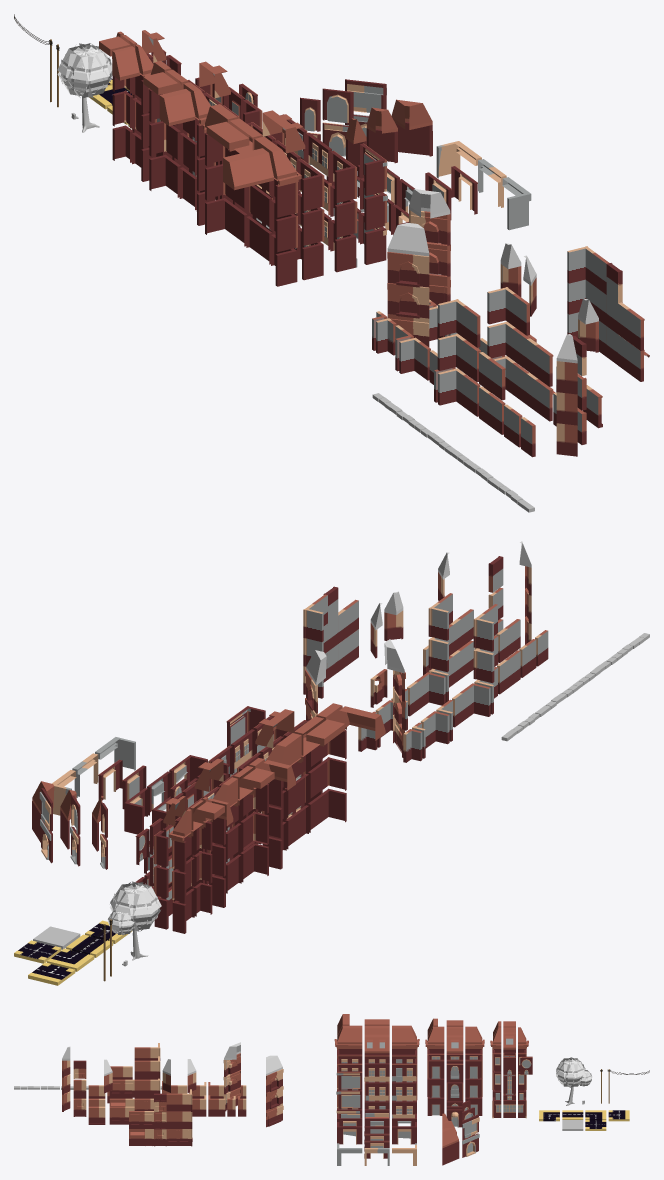
The model's file is trottoirs.fbx.
3 views of the same model, one above another, from view 1: azimuth 30°, elevation 25°; view 2: azimuth 150°, elevation 25°; view 3: azimuth 270°, elevation 25° (orthographic). The views are drawn at different scales.
Visible parts, largest first — view 1: Sphere, B_Side_Roof_Bumped.001, Cube.074, Cube.025, Cube.024, Cube.026, Cube.004, B_Side_wall_plain.011, Cube.031, Cube.023, B_Side_wall_plain.010, B_Angle_Right_Wall_Plain (+45 smaller); view 2: Sphere, Cube.074, Cube.001, Cube.010, B_Angle_Left_wall_SideBeam, B_Angle_Left_wall_Plain, Cube.031, Cube.024, Cube.025, B_Angle_Left_Display_SideAndTopBeam, B_Side_Roof_Bumped_Windows, B_Side_Roof_Bumped.001 (+24 smaller); view 3: Sphere, Cube.024, Cube.031, B_Side_Roof_Bumped_Windows, B_Angle_Left_Display_SideAndTopBeam, B_Angle_Right_windows_TopAndSidebeam, B_Angle_Left_Display_SideBeam, B_Angle_Right_Windows_SideBeam, B_Side_BumpedWindows_SideBeams, B_Side_BumpedWindows_TopBeam, Cube.023, B_Angle_Left_Roof_Bumped (+56 smaller).
Part boxes in pixels (x1=…): Sphere: x1=57, y1=43, x2=112, y2=98; B_Side_Roof_Bumped.001: x1=223, y1=148, x2=273, y2=190; Cube.074: x1=372, y1=393, x2=534, y2=512; Cube.025: x1=438, y1=299, x2=480, y2=347; Cube.024: x1=487, y1=287, x2=529, y2=335; Cube.026: x1=437, y1=333, x2=480, y2=382; Cube.004: x1=438, y1=368, x2=480, y2=416; B_Side_wall_plain.011: x1=387, y1=252, x2=429, y2=287; Cube.031: x1=567, y1=246, x2=609, y2=294; Cube.023: x1=487, y1=321, x2=529, y2=369; B_Side_wall_plain.010: x1=387, y1=283, x2=429, y2=318; B_Angle_Right_Wall_Plain: x1=205, y1=198, x2=247, y2=246; Sphere: x1=107, y1=881, x2=161, y2=935; Cube.074: x1=501, y1=633, x2=649, y2=741; Cube.001: x1=452, y1=683, x2=490, y2=727; Cube.010: x1=407, y1=672, x2=445, y2=716; B_Angle_Left_wall_SideBeam: x1=307, y1=757, x2=346, y2=801; B_Angle_Left_wall_Plain: x1=307, y1=788, x2=346, y2=832; Cube.031: x1=303, y1=594, x2=327, y2=641; Cube.024: x1=428, y1=593, x2=452, y2=640; Cube.025: x1=473, y1=604, x2=497, y2=651; B_Angle_Left_Display_SideAndTopBeam: x1=226, y1=706, x2=265, y2=746; B_Side_Roof_Bumped_Windows: x1=255, y1=709, x2=294, y2=748; B_Side_Roof_Bumped.001: x1=339, y1=706, x2=385, y2=740; Sphere: x1=556, y1=1057, x2=591, y2=1087; Cube.024: x1=134, y1=1056, x2=160, y2=1078; Cube.031: x1=166, y1=1089, x2=192, y2=1111; B_Side_Roof_Bumped_Windows: x1=364, y1=1034, x2=389, y2=1053; B_Angle_Left_Display_SideAndTopBeam: x1=336, y1=1066, x2=362, y2=1089; B_Angle_Right_windows_TopAndSidebeam: x1=392, y1=1058, x2=417, y2=1081; B_Angle_Left_Display_SideBeam: x1=336, y1=1089, x2=362, y2=1108; B_Angle_Right_Windows_SideBeam: x1=392, y1=1081, x2=417, y2=1100; B_Side_BumpedWindows_SideBeams: x1=364, y1=1082, x2=389, y2=1100; B_Side_BumpedWindows_TopBeam: x1=364, y1=1063, x2=389, y2=1081; Cube.023: x1=134, y1=1078, x2=160, y2=1097; B_Angle_Left_Roof_Bumped: x1=337, y1=1025, x2=362, y2=1044.
Size of the model in its own units: 8999 by 3855 by 30235.
